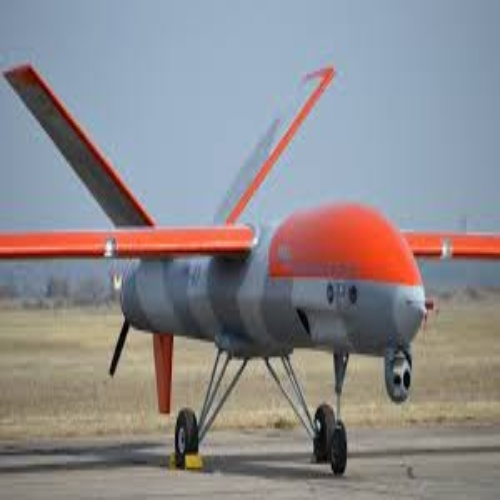uav: (3, 61, 500, 476)
